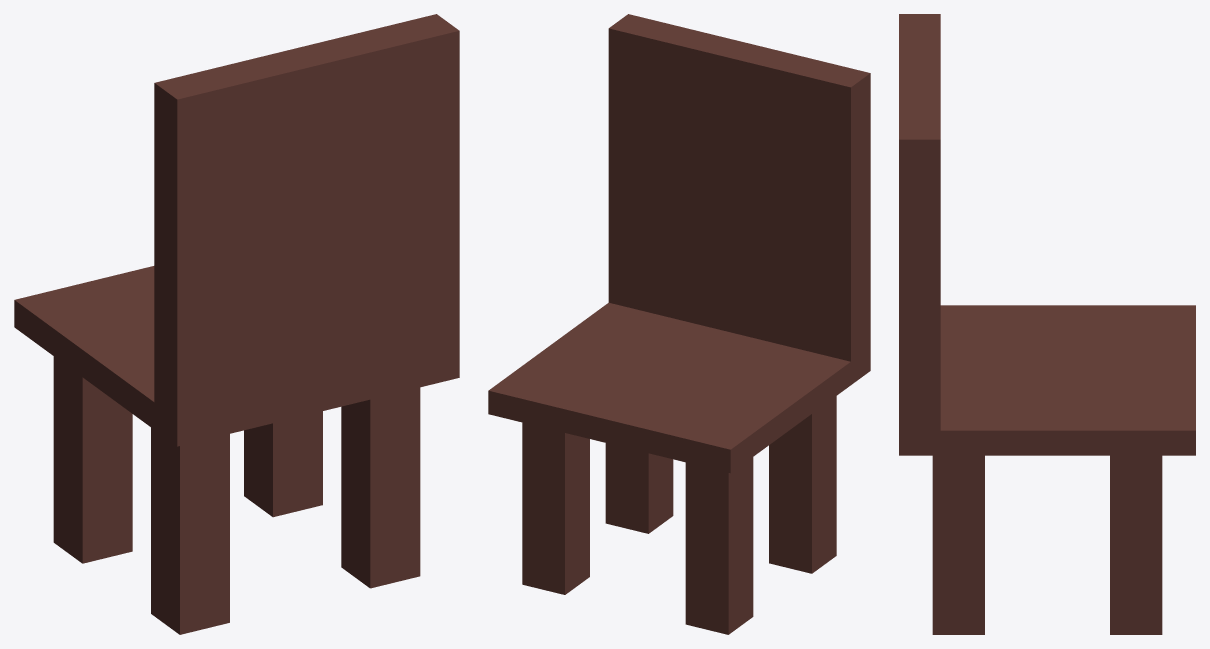
File: cadeira.glb
3 views of the same model, side by side, from view 1: azimuth 30°, elevation 25°; view 2: azimuth 150°, elevation 25°; view 3: azimuth 270°, elevation 25° (orthographic). The views are drawn at different scales.
Visible parts, largest first — view 1: Cube; view 2: Cube; view 3: Cube.
Boxes of the visible parts, box(x1,y1,x2,y2) form: Cube: box(14, 14, 459, 634); Cube: box(488, 14, 870, 634); Cube: box(899, 14, 1195, 634).
Size of the model in its own units: 0.5071 by 0.951 by 0.5071.
